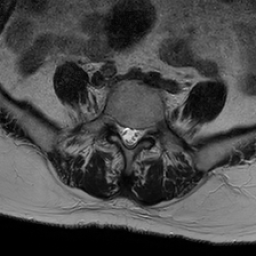CCS_normal: (125, 116, 133, 156)
LFS_normal: (142, 117, 149, 144)
LLS_normal: (133, 118, 142, 149)
RFS_normal: (110, 110, 117, 139)
RLS_normal: (117, 116, 125, 147)
